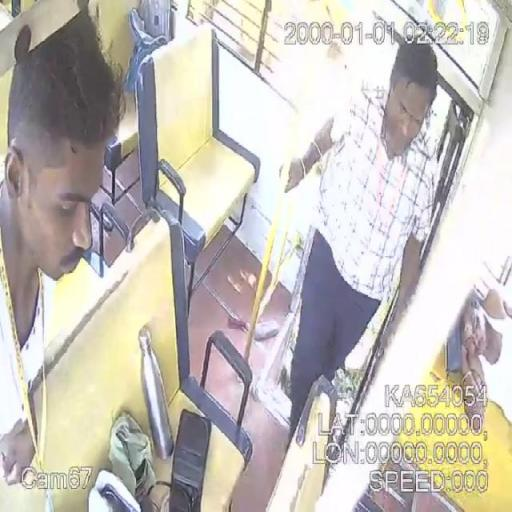persona: (273, 36, 442, 446), (0, 1, 127, 505), (454, 283, 512, 446)
